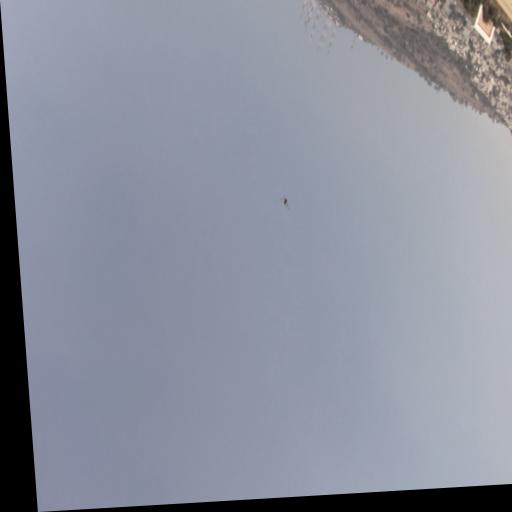drones: (279, 192, 292, 212)
